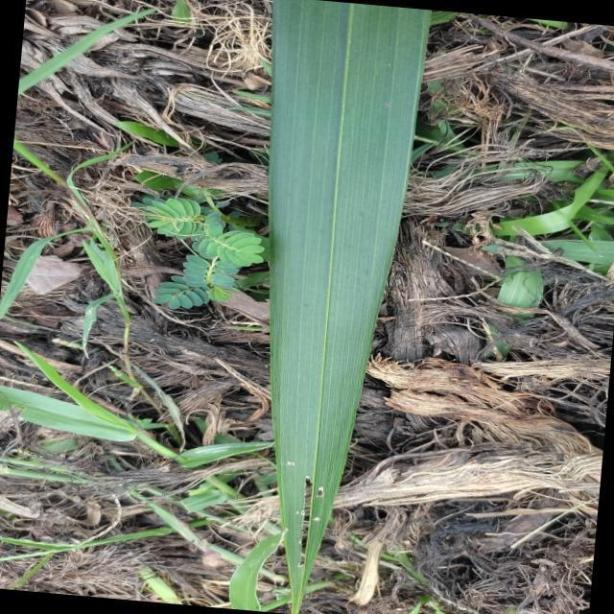Boron: (268, 0, 428, 614)
